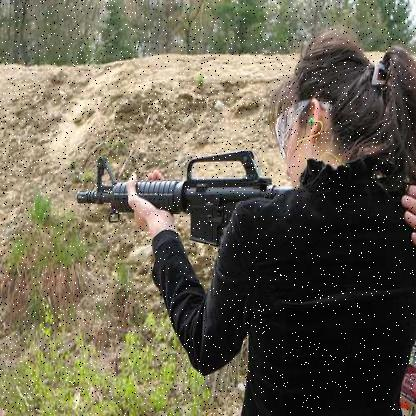rifle: (56, 132, 303, 263)
